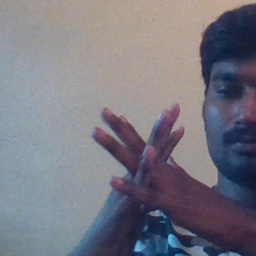W: (79, 94, 209, 234)
